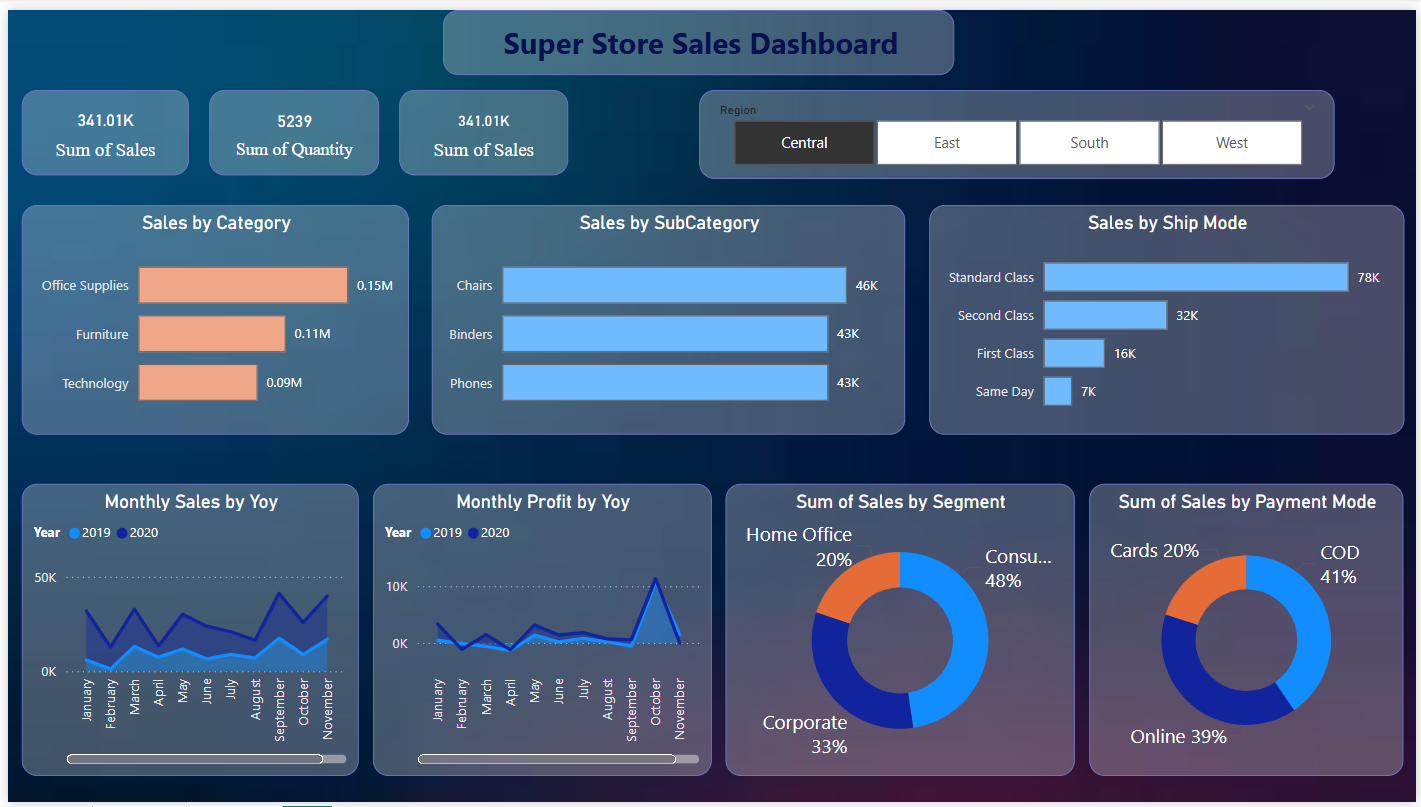

The page's visual inventory and layout, read from the dashboard file:
{"tool":"powerbi","page":{"name":"Sales Dashboard","canvas":[1280,720],"ordinal":0},"visuals":[{"type":"clusteredBarChart","title":"Sales by Category","fields":{"Category":["SuperStore_Sales_Dataset.Category"],"Y":["Sum(SuperStore_Sales_Dataset.Sales)"]},"box":[12.1,177.3,352.3,208.7],"z":0},{"type":"clusteredBarChart","title":"Sales by SubCategory","fields":{"Category":["SuperStore_Sales_Dataset.Sub-Category"],"Y":["Sum(SuperStore_Sales_Dataset.Sales)"]},"box":[384.9,177.3,430.7,208.7],"z":1000},{"type":"clusteredBarChart","title":"Sales by Ship Mode","fields":{"Category":["SuperStore_Sales_Dataset.Ship Mode"],"Y":["Sum(SuperStore_Sales_Dataset.Sales)"]},"box":[837.3,177.3,431.9,208.7],"z":2000},{"type":"stackedAreaChart","title":"Monthly Sales by Yoy","fields":{"Y":["Sum(SuperStore_Sales_Dataset.Sales)"],"Category":["SuperStore_Sales_Dataset.Order Date.Variation.Date Hierarchy.Month","SuperStore_Sales_Dataset.Order Date.Variation.Date Hierarchy.Day"],"Series":["SuperStore_Sales_Dataset.Order Date.Variation.Date Hierarchy.Year"]},"box":[12.1,430.7,306.4,265.4],"z":3000},{"type":"stackedAreaChart","title":"Monthly Profit by Yoy","fields":{"Category":["SuperStore_Sales_Dataset.Order Date.Variation.Date Hierarchy.Month","SuperStore_Sales_Dataset.Order Date.Variation.Date Hierarchy.Day"],"Series":["SuperStore_Sales_Dataset.Order Date.Variation.Date Hierarchy.Year"],"Y":["Sum(SuperStore_Sales_Dataset.Profit)"]},"box":[331.8,430.7,307.6,265.4],"z":4000},{"type":"donutChart","fields":{"Category":["SuperStore_Sales_Dataset.Segment"],"Y":["Sum(SuperStore_Sales_Dataset.Sales)"]},"box":[652.7,430.7,317.3,265.4],"z":5000},{"type":"donutChart","fields":{"Category":["SuperStore_Sales_Dataset.Payment Mode","SuperStore_Sales_Dataset.Segment"],"Y":["Sum(SuperStore_Sales_Dataset.Sales)"]},"box":[983.2,430.7,285.9,265.4],"z":6000},{"type":"slicer","fields":{"Values":["SuperStore_Sales_Dataset.Region"]},"box":[628.6,72.4,577.9,80.8],"z":7000},{"type":"textbox","box":[395.7,0,464.5,59.1],"z":8000},{"type":"card","fields":{"Values":["Sum(SuperStore_Sales_Dataset.Sales)"]},"box":[12.1,72.4,152,77.2],"z":9000},{"type":"card","fields":{"Values":["Sum(SuperStore_Sales_Dataset.Quantity)"]},"box":[183.4,72.4,154.4,77.2],"z":10000},{"type":"card","fields":{"Values":["Sum(SuperStore_Sales_Dataset.Sales)"]},"box":[355.9,72.4,153.2,77.2],"z":11000}]}

Visuals, with their boxes in screenshot pixels (x1, y1, x2, y2), scaled from the page's 1280x720 canvas onto the 1421x807 screenshot:
"Sales by Category" clusteredBarChart: (x1=13, y1=199, x2=405, y2=433)
"Sales by SubCategory" clusteredBarChart: (x1=427, y1=199, x2=905, y2=433)
"Sales by Ship Mode" clusteredBarChart: (x1=930, y1=199, x2=1409, y2=433)
"Monthly Sales by Yoy" stackedAreaChart: (x1=13, y1=483, x2=354, y2=780)
"Monthly Profit by Yoy" stackedAreaChart: (x1=368, y1=483, x2=710, y2=780)
donutChart - SuperStore_Sales_Dataset.Segment x Sum(SuperStore_Sales_Dataset.Sales): (x1=725, y1=483, x2=1077, y2=780)
donutChart - SuperStore_Sales_Dataset.Payment Mode x SuperStore_Sales_Dataset.Segment: (x1=1092, y1=483, x2=1409, y2=780)
slicer - SuperStore_Sales_Dataset.Region: (x1=698, y1=81, x2=1339, y2=172)
textbox: (x1=439, y1=0, x2=955, y2=66)
card - Sum(SuperStore_Sales_Dataset.Sales): (x1=13, y1=81, x2=182, y2=168)
card - Sum(SuperStore_Sales_Dataset.Quantity): (x1=204, y1=81, x2=375, y2=168)
card - Sum(SuperStore_Sales_Dataset.Sales): (x1=395, y1=81, x2=565, y2=168)
